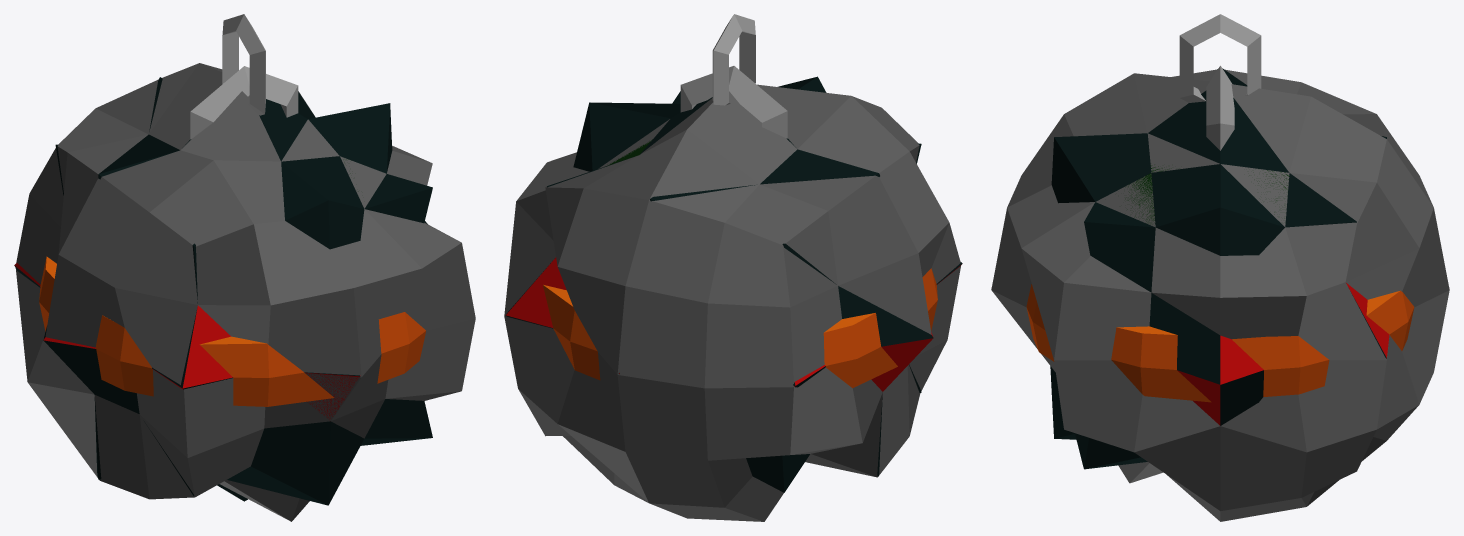
File: TrapObj&Material2.fbx
3 renders of one model, left to right at view 1: azimuth 30°, elevation 25°; view 2: azimuth 150°, elevation 25°; view 3: azimuth 270°, elevation 25°, orthographic.
Visible parts, largest first — view 1: Topuz_ver1, Topuz_ver2, Topuz_ver3, Zincir.001; view 2: Topuz_ver1, Topuz_ver2, Topuz_ver3, Zincir.001; view 3: Topuz_ver1, Topuz_ver2, Topuz_ver3, Zincir.001.
Part boxes in pixels (x1,y1,x2,y2): Topuz_ver1: [15, 63, 475, 521]; Topuz_ver2: [14, 77, 432, 505]; Topuz_ver3: [39, 66, 425, 406]; Zincir.001: [222, 14, 265, 115]; Topuz_ver1: [504, 84, 960, 521]; Topuz_ver2: [505, 76, 962, 492]; Topuz_ver3: [543, 66, 937, 388]; Zincir.001: [712, 14, 755, 105]; Topuz_ver1: [991, 69, 1449, 521]; Topuz_ver2: [1050, 68, 1389, 469]; Topuz_ver3: [1026, 65, 1414, 402]; Zincir.001: [1179, 14, 1261, 102].
Size of the model in its own units: 210 by 243 by 210.
Materials: 1 (1 with a texture image).
